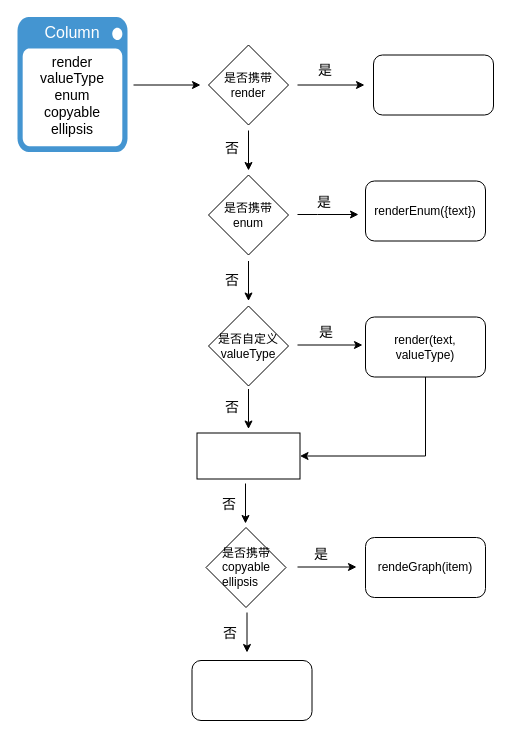
The diagram is 511 pixels wide and 738 high, and some of its shapes have lost their labels. The centre of each missing label's shape, as x and y in pixels:
"render(text, record, index)" goes at [433,84].
"文本节点" goes at [248,455].
"直接展示文本" goes at [251,690].
